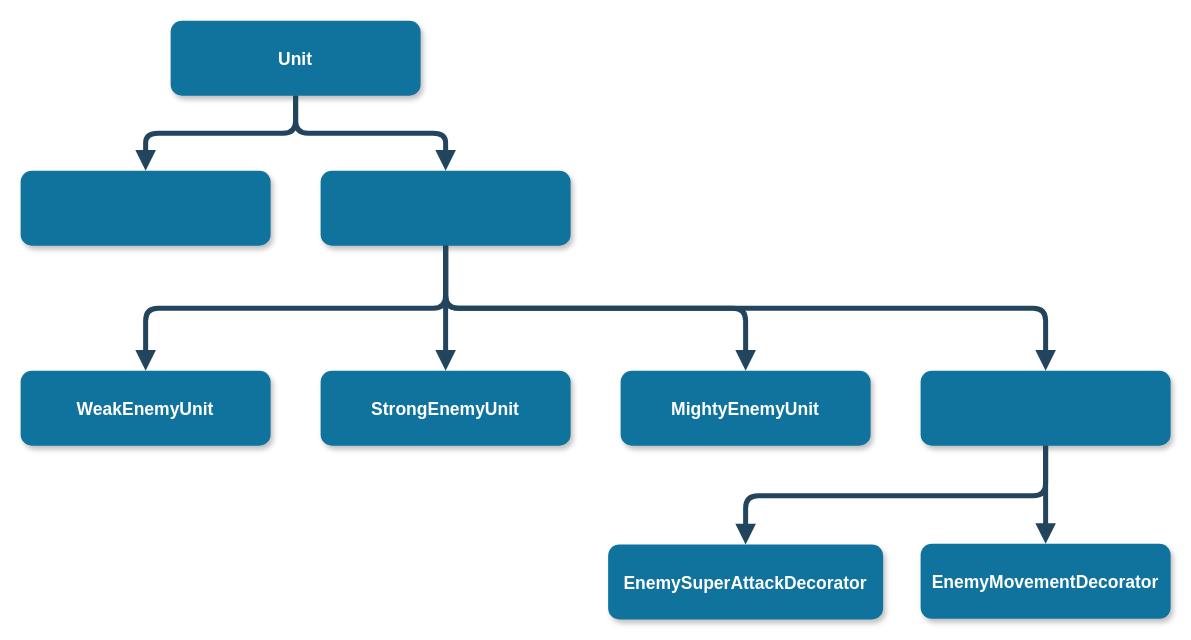
The diagram is 1191 pixels wide and 640 high, and some of its shapes have lost their labels. Each missing label, with the centre of its shape:
EnemyUnit: point (446, 209)
EnemyUnitDecorator: point (1046, 409)
HeroUnit: point (146, 209)
